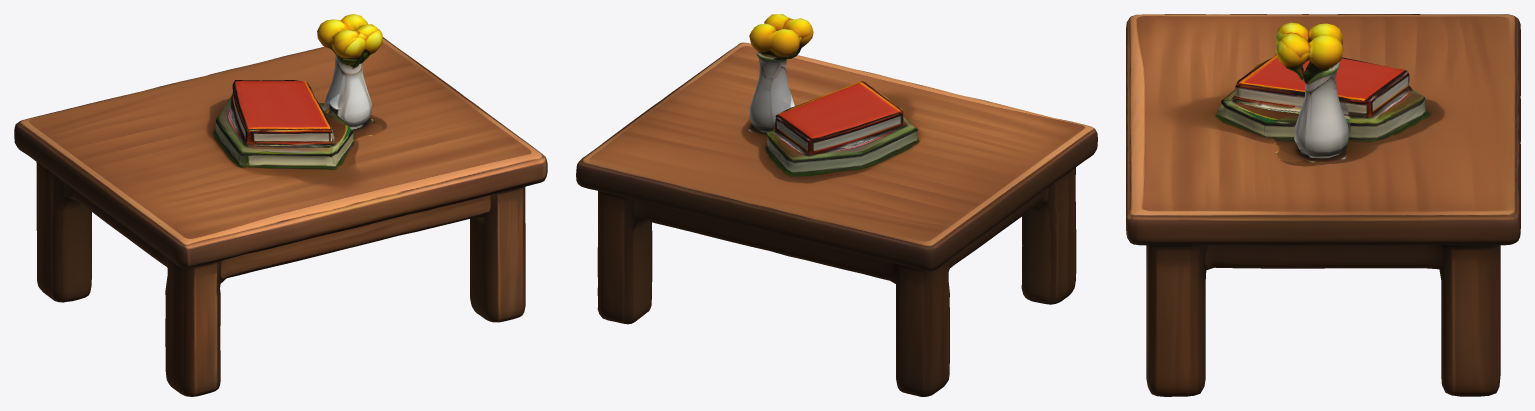
Rendered from table.obj.
3 views of the same model, side by side, from view 1: azimuth 30°, elevation 25°; view 2: azimuth 150°, elevation 25°; view 3: azimuth 270°, elevation 25° (orthographic). The views are drawn at different scales.
Visible parts, largest first — view 1: 6c125abc-04c6-483d-a8ed-e09e38f5b942; view 2: 6c125abc-04c6-483d-a8ed-e09e38f5b942; view 3: 6c125abc-04c6-483d-a8ed-e09e38f5b942.
Boxes of the visible parts, left/top/right/bottom form: 6c125abc-04c6-483d-a8ed-e09e38f5b942: left=14, top=14, right=547, bottom=396; 6c125abc-04c6-483d-a8ed-e09e38f5b942: left=576, top=14, right=1097, bottom=396; 6c125abc-04c6-483d-a8ed-e09e38f5b942: left=1126, top=14, right=1520, bottom=396.
Size of the model in its own units: 1.91 by 1.34 by 1.54.
1 material, 1 textured.
